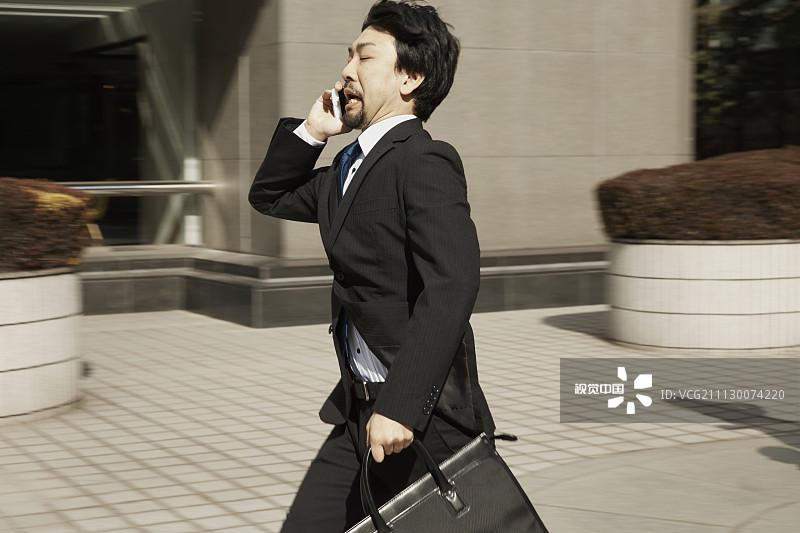calling: (284, 73, 363, 153)
no-phone: (352, 404, 437, 471)
